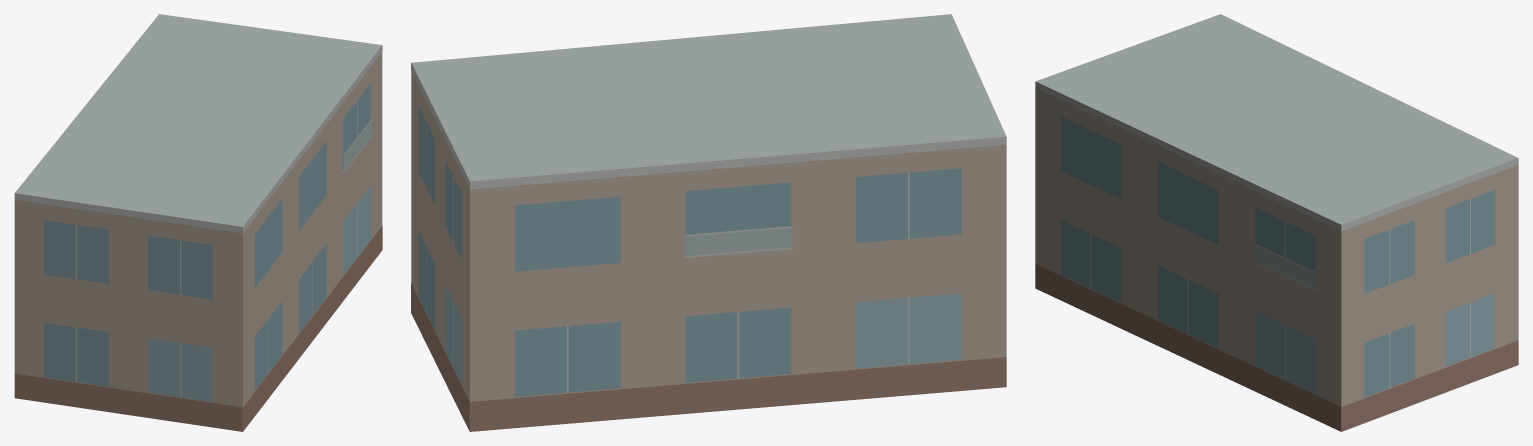
Rendered from survey-upis-33010648.glb.
3 renders of one model, left to right at view 1: azimuth 30°, elevation 25°; view 2: azimuth 150°, elevation 25°; view 3: azimuth 270°, elevation 25°, orthographic. The views are drawn at different scales.
Visible parts, largest first — view 1: survey-upis-33010648.tmp; view 2: survey-upis-33010648.tmp; view 3: survey-upis-33010648.tmp.
Boxes of the visible parts, bbox=[...] form: survey-upis-33010648.tmp: bbox=[14, 14, 382, 431]; survey-upis-33010648.tmp: bbox=[411, 14, 1006, 431]; survey-upis-33010648.tmp: bbox=[1035, 14, 1518, 431].
Bounding box in the file's own units: 16.6 × 7.6 × 16.07.
